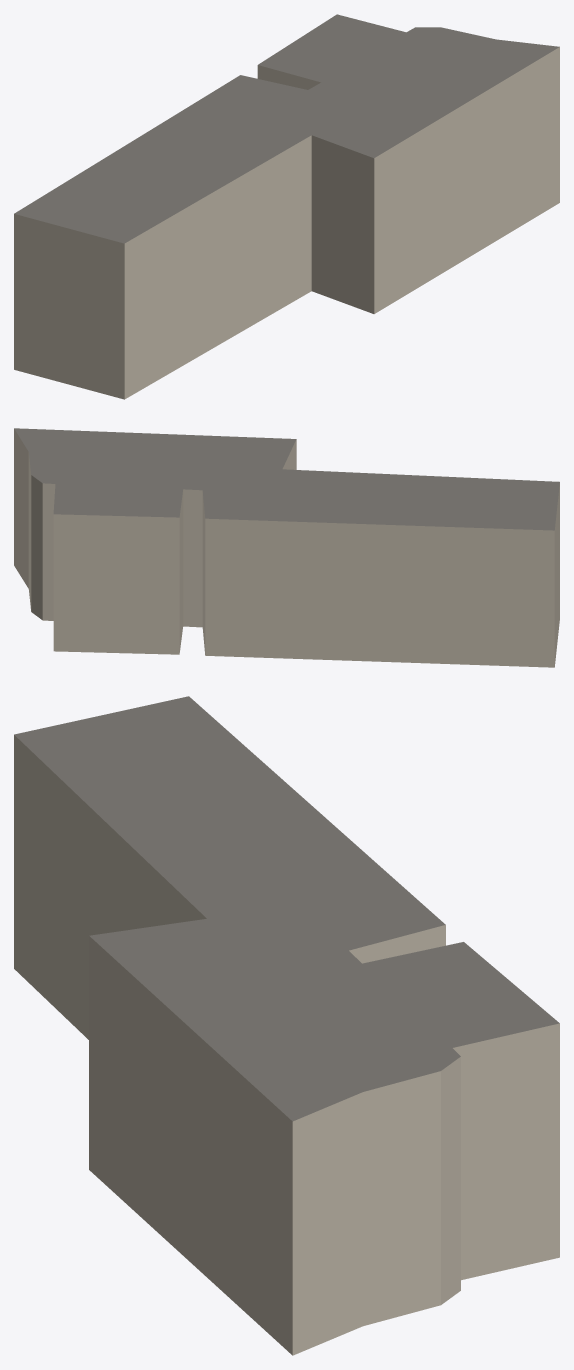
3 views of the same model, one above another, from view 1: azimuth 30°, elevation 25°; view 2: azimuth 150°, elevation 25°; view 3: azimuth 270°, elevation 25° (orthographic). The views are drawn at different scales.
Parts seen in each view (by area): view 1: HP-w1512461405; view 2: HP-w1512461405; view 3: HP-w1512461405.
Part boxes in pixels (box(x1,y1,x2,y2)): HP-w1512461405: box(14, 14, 559, 399); HP-w1512461405: box(14, 428, 559, 667); HP-w1512461405: box(14, 696, 559, 1355).
Bounding box in the file's own units: 70.1 × 18 × 38.03.
